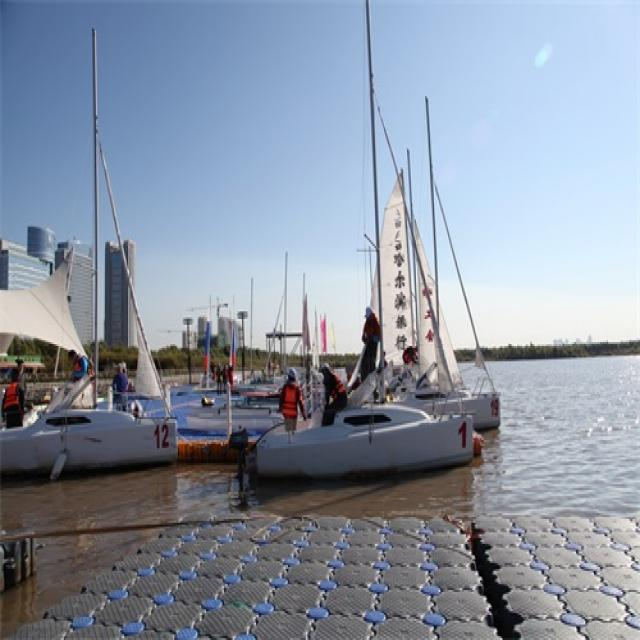Ship: (246, 84, 509, 476), (2, 35, 184, 467)
